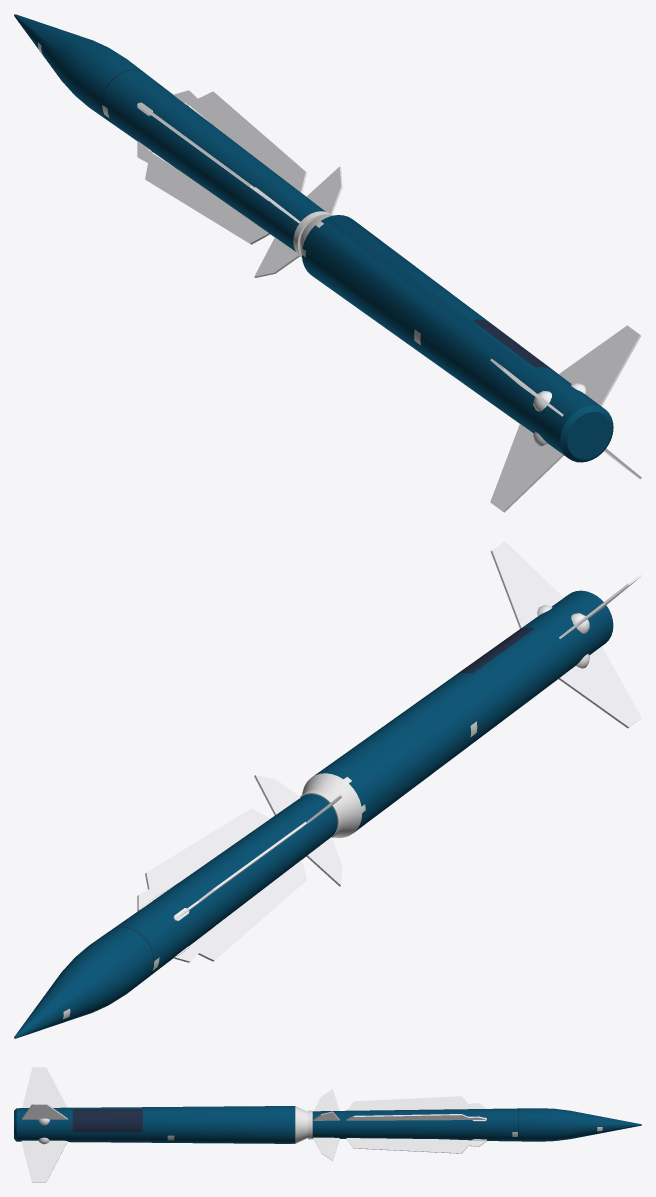
The model's file is missile0.glb.
The picture shows the model from 3 angles, top to bottom: view 1: azimuth 30°, elevation 25°; view 2: azimuth 150°, elevation 25°; view 3: azimuth 270°, elevation 25°; orthographic projection. The views are drawn at different scales.
Parts seen in each view (by area): view 1: Object_4, Object_8, Object_6, Object_5; view 2: Object_4, Object_8, Object_6, Object_5; view 3: Object_4, Object_8, Object_5, Object_6.
Part boxes in pixels (x1,y1,x2,y2): Object_4: (14,14,613,462); Object_8: (137,90,641,512); Object_6: (38,42,420,345); Object_5: (101,69,553,370); Object_4: (14,590,613,1038); Object_8: (137,541,641,962); Object_6: (63,721,477,1019); Object_5: (114,627,533,978); Object_4: (14,1106,641,1143); Object_8: (21,1067,486,1182); Object_5: (72,1108,518,1141); Object_6: (167,1106,602,1143).
Bounding box in the file's own units: 12.52 × 12.49 × 89.73.
